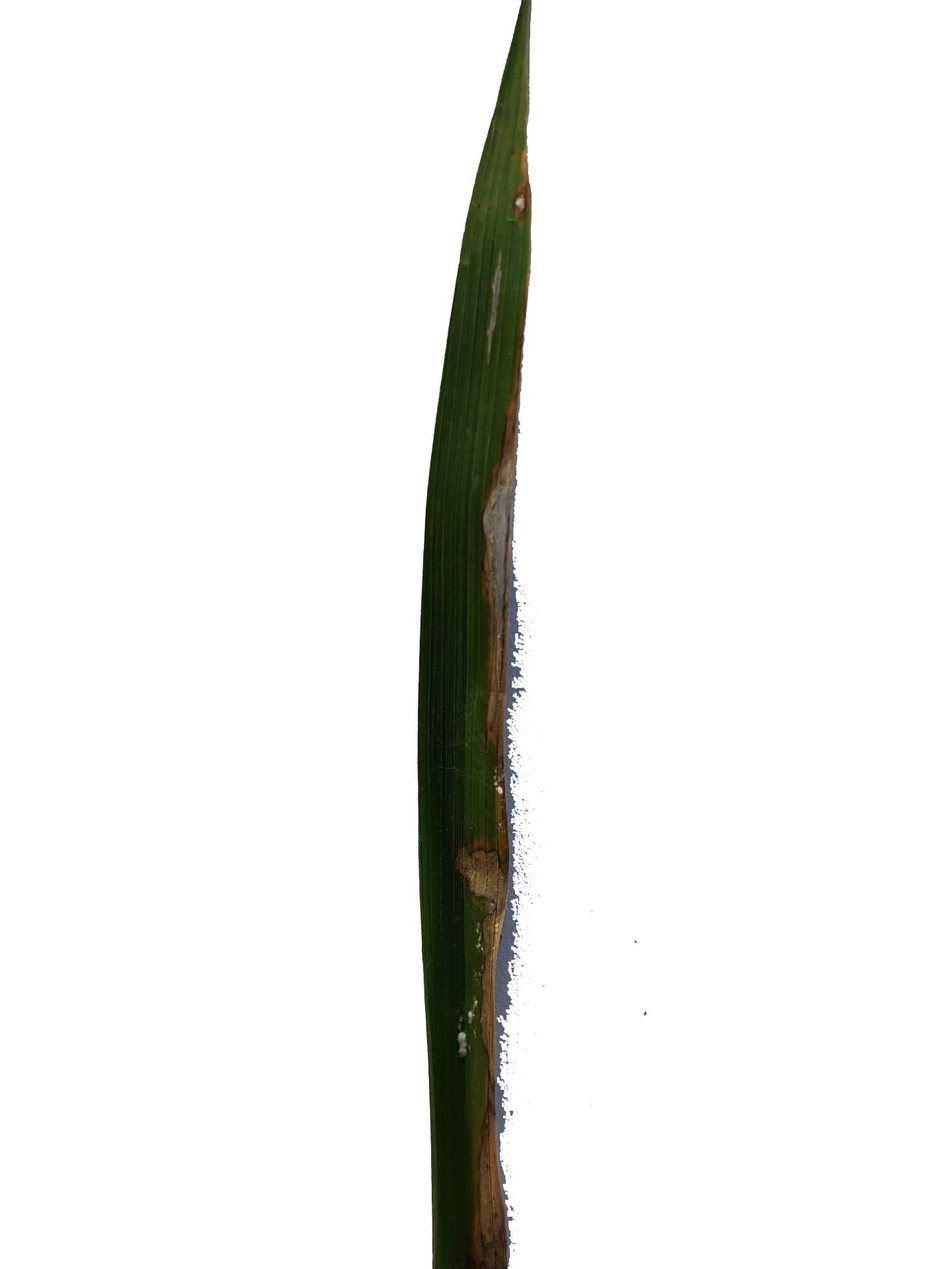Blight: (473, 364, 526, 925), (450, 899, 526, 1266)
